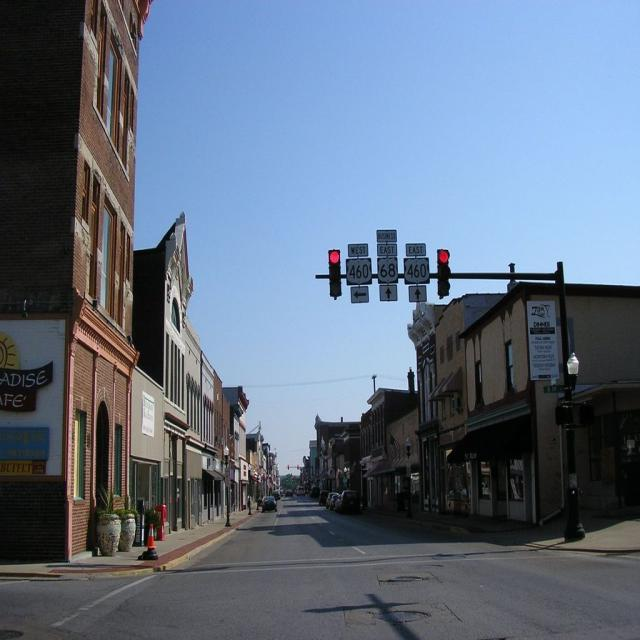traffic light: (437, 249, 452, 296), (328, 249, 342, 296)
